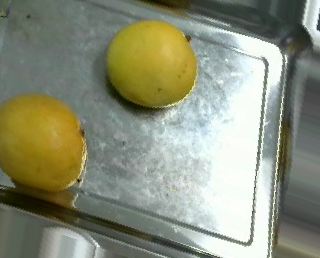Mango: (104, 16, 201, 114), (3, 93, 92, 196)
